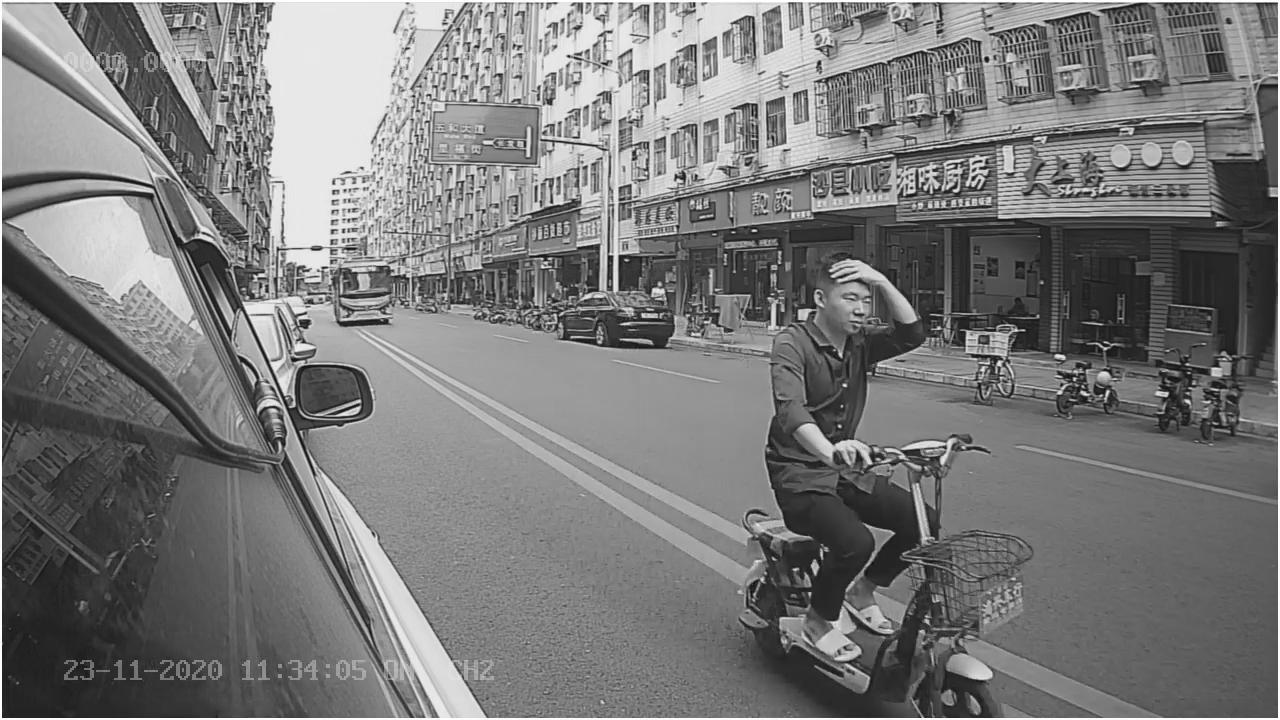person: (761, 250, 925, 466)
